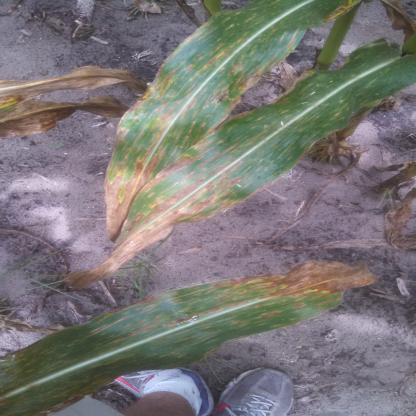Corn leaf blight: (72, 36, 409, 294), (85, 1, 346, 233), (2, 264, 402, 409)
